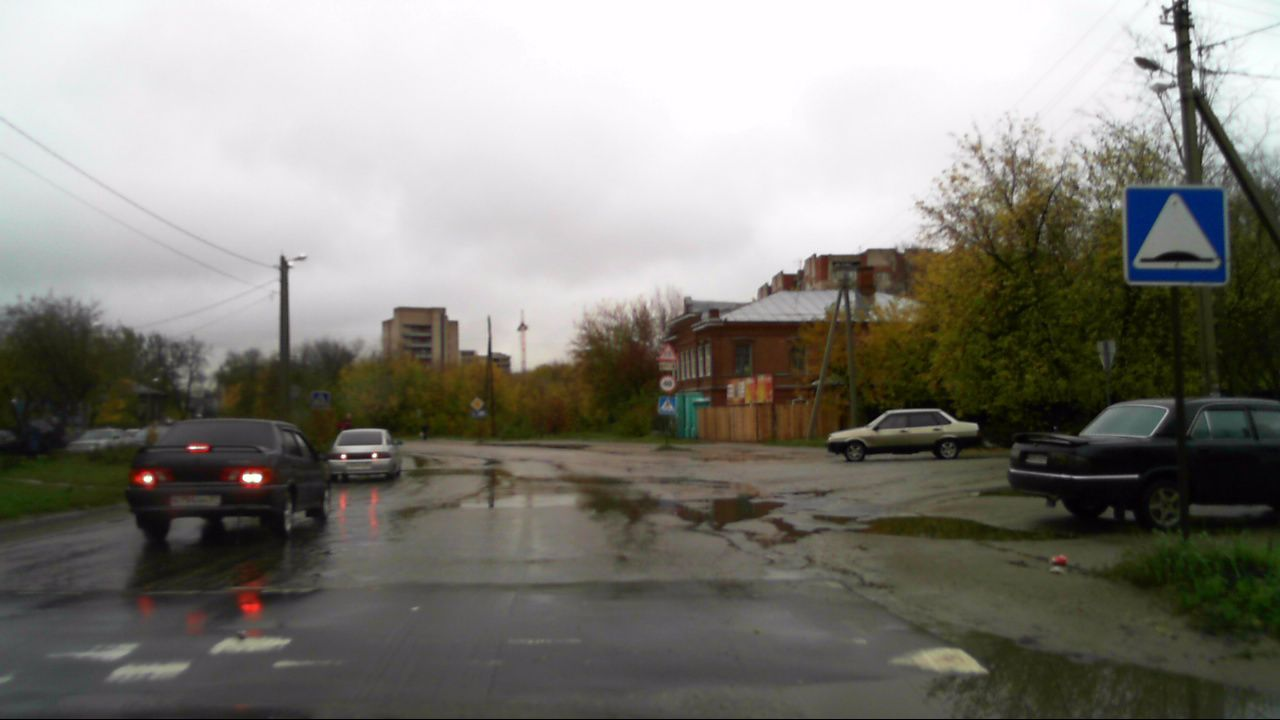speed_warning_40: (658, 375, 676, 391)
